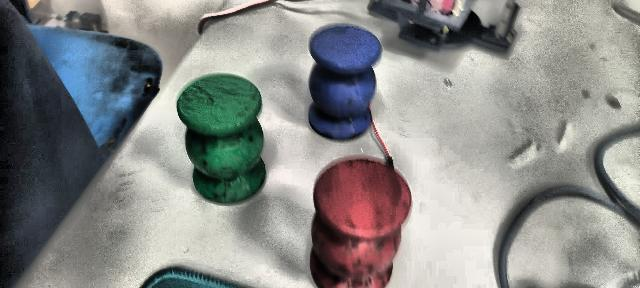blue: (308, 24, 382, 140)
green: (177, 70, 268, 206)
red: (307, 162, 410, 288)
